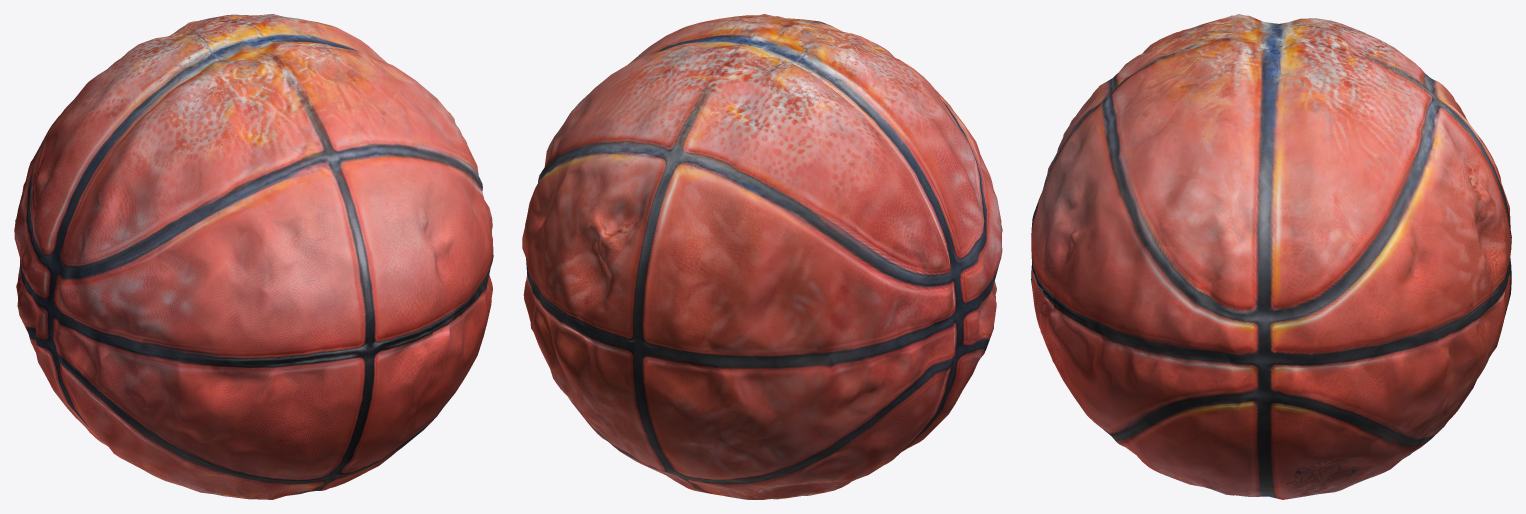
Rendered from basketba-e19c-4fe4-ad04-ab7e2e9a3969.glb.
3 renders of one model, left to right at view 1: azimuth 30°, elevation 25°; view 2: azimuth 150°, elevation 25°; view 3: azimuth 270°, elevation 25°, orthographic.
Bounding box in the file's own units: 1.2 × 1.2 × 1.2.
1 material, 1 textured.
